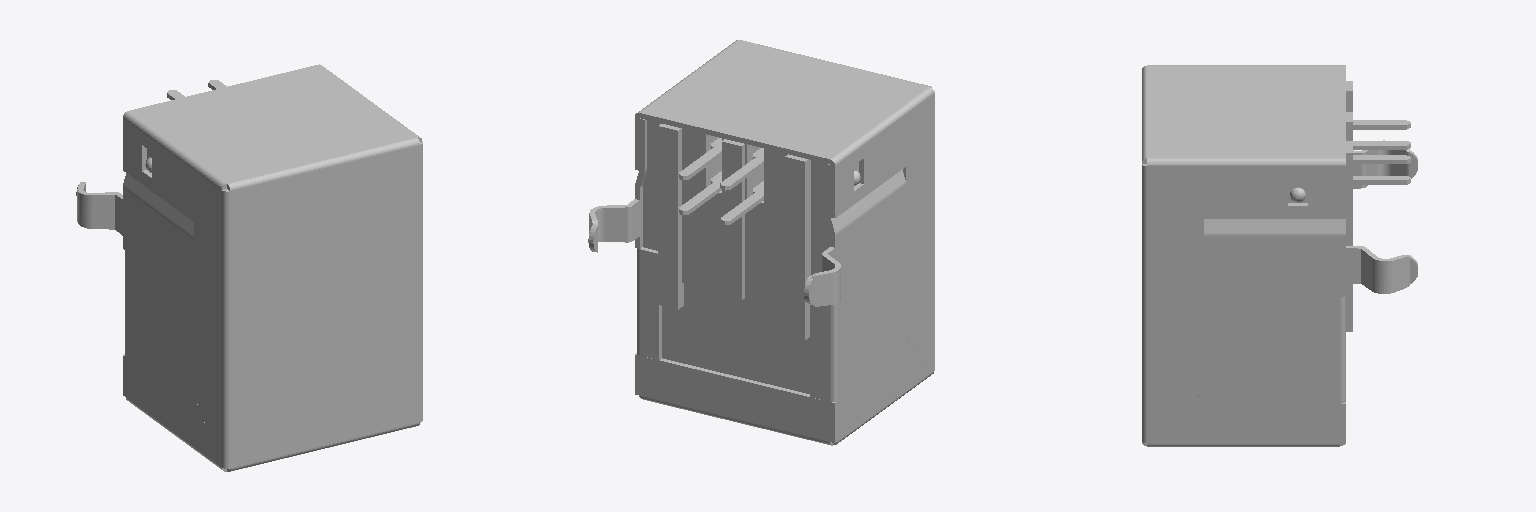
File: USB 2.0 Type B Connector Right Angle (Würth 61400416121).obj
3 renders of one model, left to right at view 1: azimuth 30°, elevation 25°; view 2: azimuth 150°, elevation 25°; view 3: azimuth 270°, elevation 25°, orthographic.
Bounding box in the file's own units: 14.84 × 16.5 × 14.38.